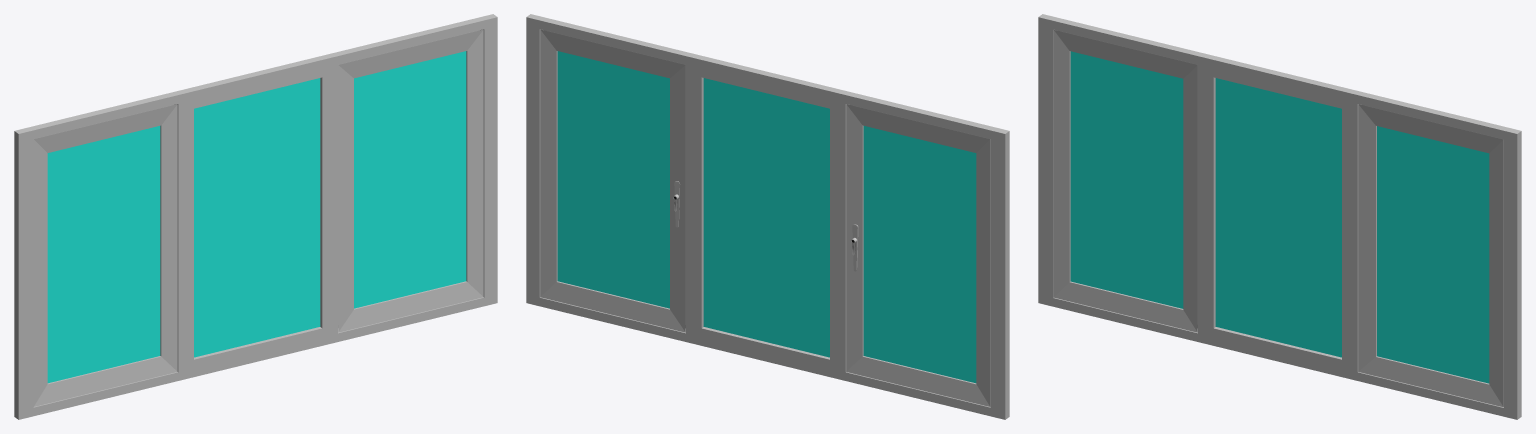
Rendered from window1.obj.
3 renders of one model, left to right at view 1: azimuth 30°, elevation 25°; view 2: azimuth 150°, elevation 25°; view 3: azimuth 330°, elevation 25°, orthographic.
Parts seen in each view (by area): view 1: Window_3; view 2: Window_3; view 3: Window_3.
Part boxes in pixels (x1,y1,x2,y2): Window_3: (14,14,497,419); Window_3: (526,14,1009,419); Window_3: (1038,14,1521,419).
Bounding box in the file's own units: 4.46 × 2.54 × 0.0948.
